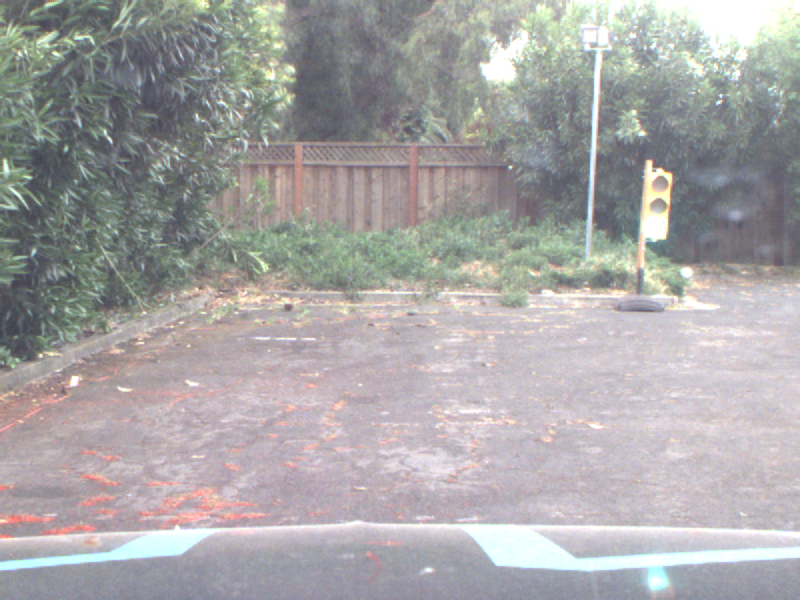Green: (642, 171, 671, 244)
